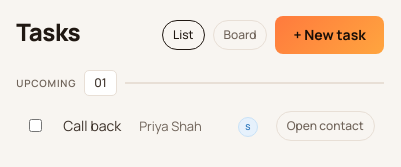
Test: TasksPage complete/undo › clicking the inline Undo restores the task and reverses the status
Expected: the text "Call back" is shown, [54,102,130,150]
What coordinates should you click on to do the following:
click the checkbox named "Complete Call back"
I would click on:
 (36, 125)
Its box is [29,118,42,132].
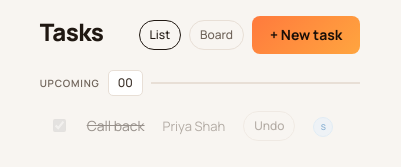
Expected: the button "Undo" is shown
What coordinates should you click on to do the following:
click the button "Undo"
I would click on:
 (269, 126)
Its box is [243,111,295,141].
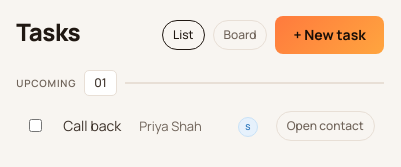
Expected: the text "Call back" is shown, [54,102,130,150]
Expected: the button "Undo" is gone
